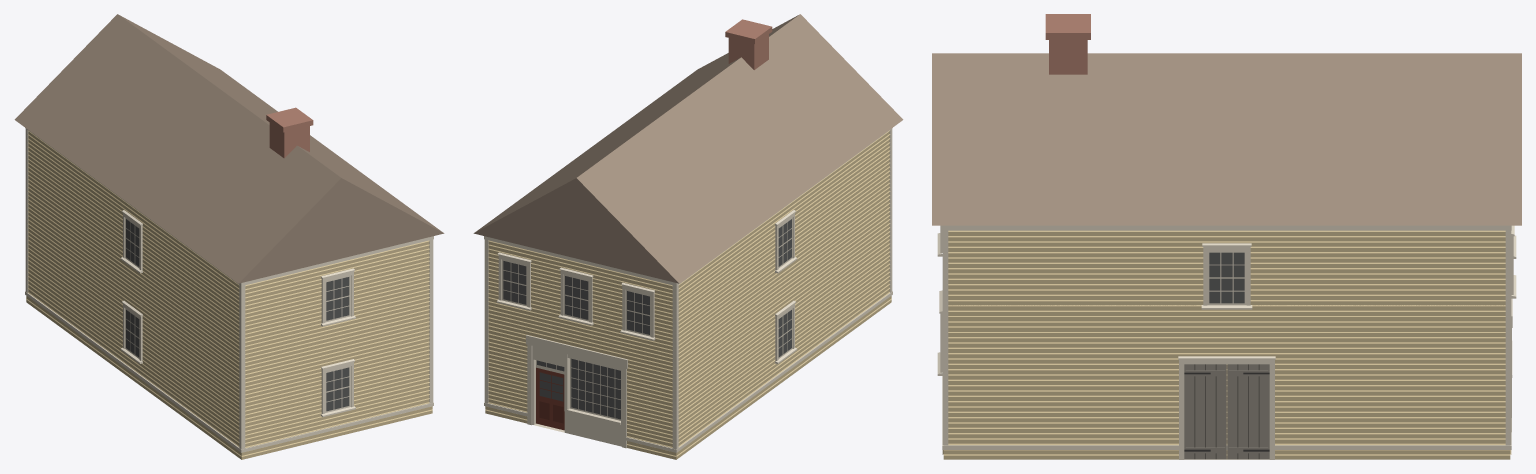
Rendered from recon_1835_core_c3_051__inferred_1835.glb.
3 renders of one model, left to right at view 1: azimuth 30°, elevation 25°; view 2: azimuth 150°, elevation 25°; view 3: azimuth 270°, elevation 25°, orthographic. The views are drawn at different scales.
Visible parts, largest first — view 1: recon_1835_core_c3_051__inferred_1835; view 2: recon_1835_core_c3_051__inferred_1835; view 3: recon_1835_core_c3_051__inferred_1835.
Part boxes in pixels (left/top/right/bottom): recon_1835_core_c3_051__inferred_1835: left=14, top=14, right=444, bottom=459; recon_1835_core_c3_051__inferred_1835: left=473, top=14, right=903, bottom=459; recon_1835_core_c3_051__inferred_1835: left=932, top=14, right=1521, bottom=459.
Size of the model in its own units: 6.77 by 8.94 by 12.76.
